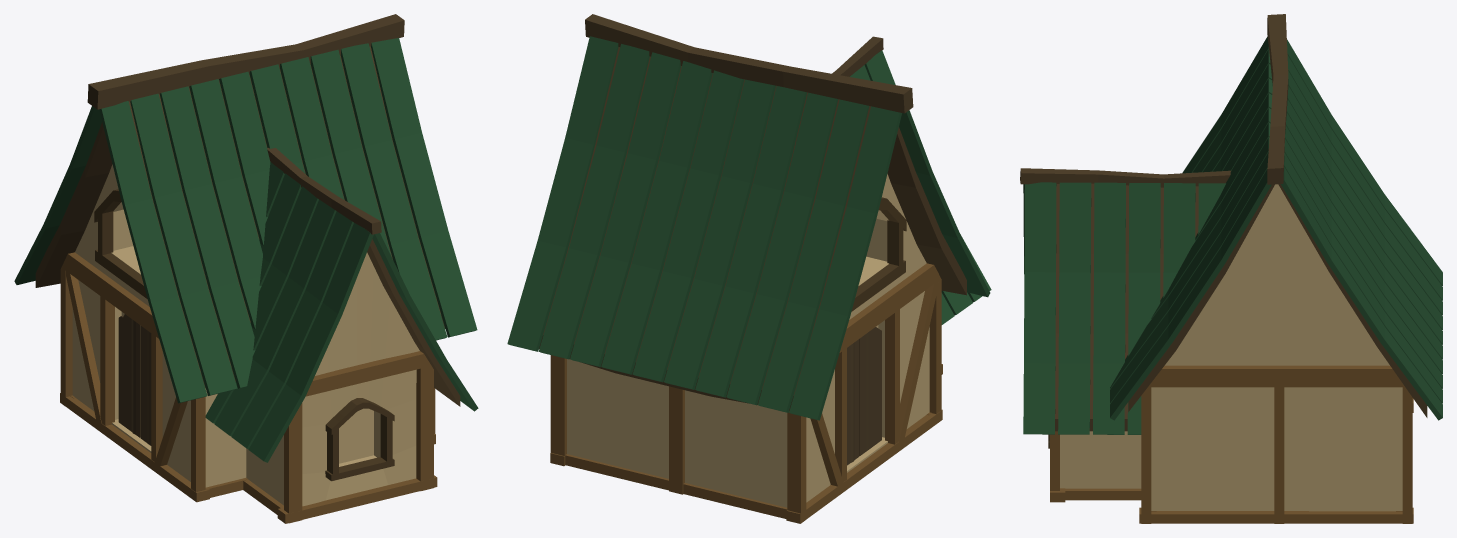
File: House.fbx
3 renders of one model, left to right at view 1: azimuth 30°, elevation 25°; view 2: azimuth 150°, elevation 25°; view 3: azimuth 270°, elevation 25°, orthographic. The views are drawn at different scales.
Parts seen in each view (by area): view 1: House; view 2: House; view 3: House.
Boxes of the visible parts, <box> form: House: <box>14,14,478,523</box>; House: <box>507,14,991,523</box>; House: <box>1020,14,1442,523</box>.
Size of the model in its own units: 408 by 473 by 484.
